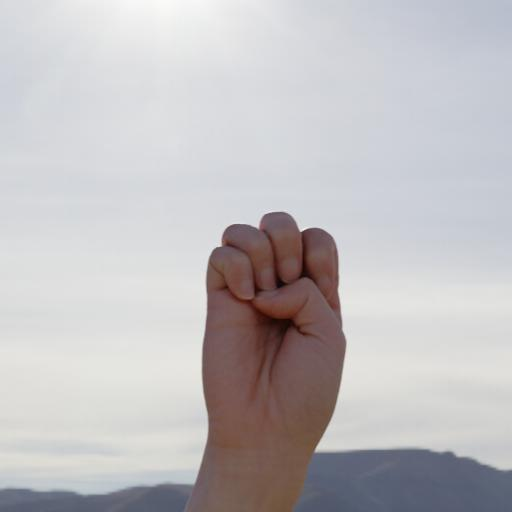E: (174, 201, 360, 478)
